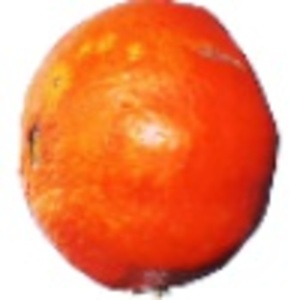tangerina: (1, 1, 283, 300)
